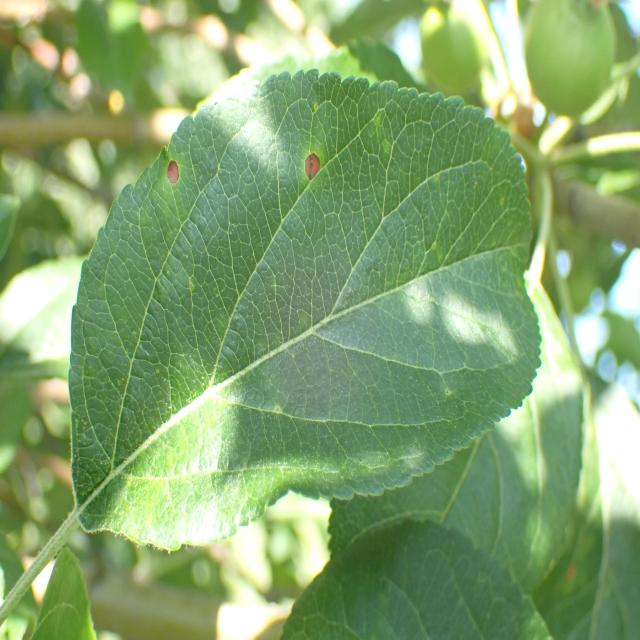frog-eye-leaf-spot: (68, 70, 544, 557)
